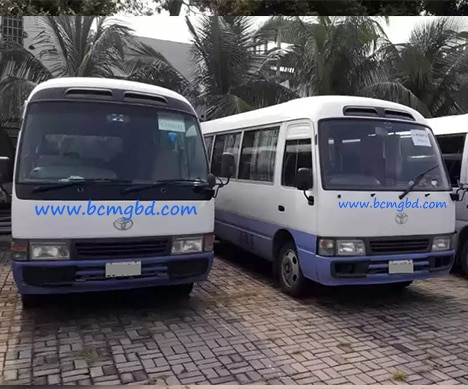minibus: (207, 93, 454, 299), (9, 75, 217, 310)
